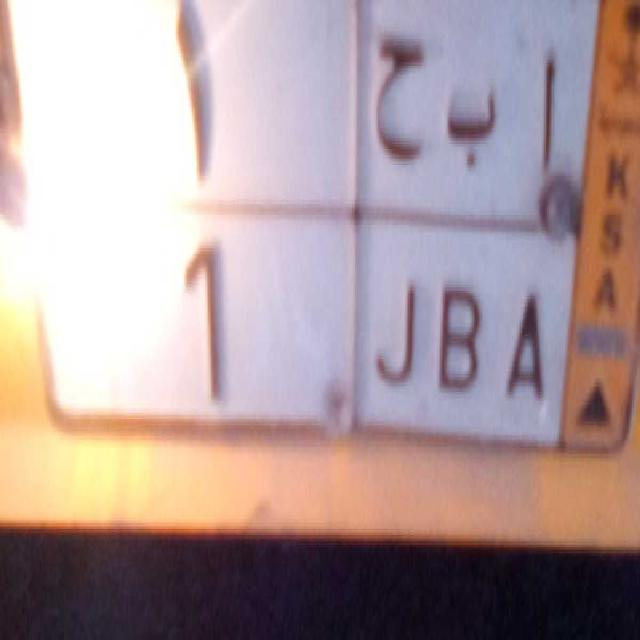license_plate: (39, 189, 565, 454)
